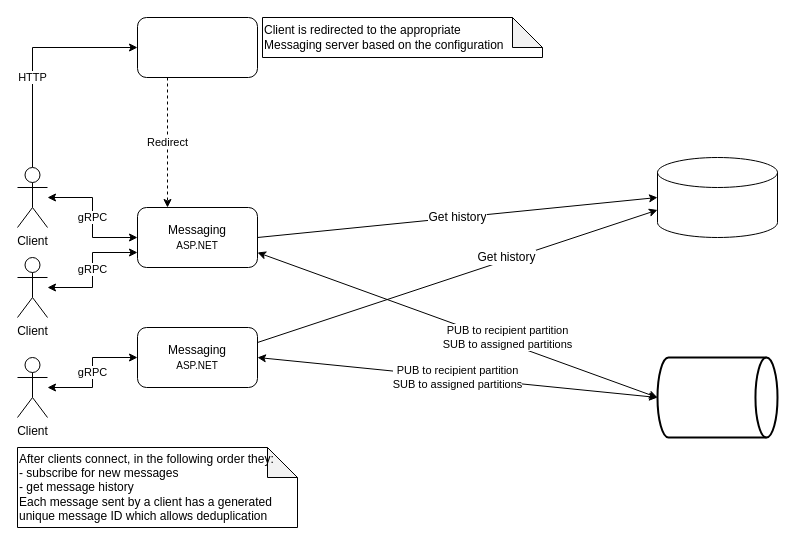
Image size: 796x545. Some labels were removed from this diagram. The centre of each missing label's shape, as x and y in pixels:
"Connect ASP.NET" belongs at point 197,47.
"DB Cassandra cluster" belongs at point 717,197.
"PUB/SUB Kafka cluster" belongs at point 717,397.
